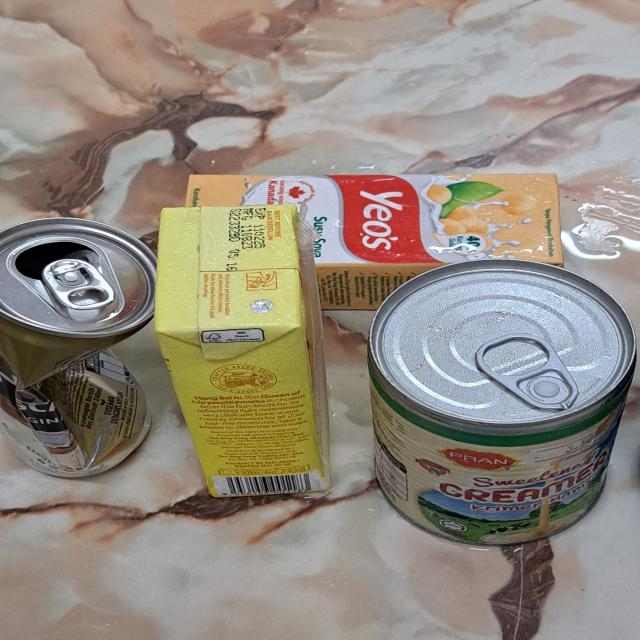can: (370, 256, 636, 548), (0, 217, 156, 478)
drink carton: (187, 171, 566, 309), (159, 205, 333, 496)
pop tab: (479, 333, 574, 411), (41, 256, 115, 308)
